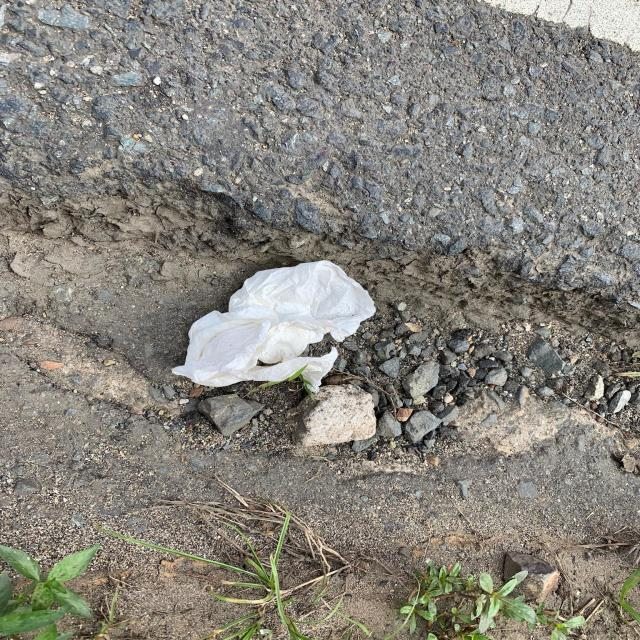litter: (169, 258, 372, 388)
